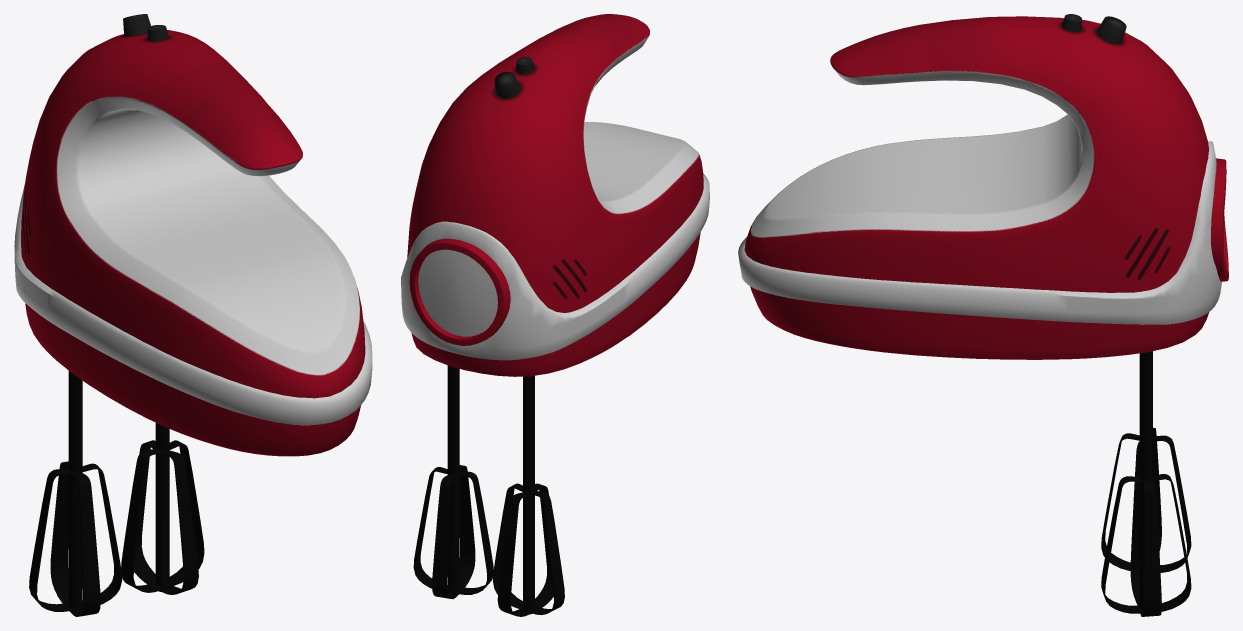
File: kitchen7.glb
3 renders of one model, left to right at view 1: azimuth 30°, elevation 25°; view 2: azimuth 150°, elevation 25°; view 3: azimuth 270°, elevation 25°, orthographic. The views are drawn at different scales.
Visible parts, largest first — view 1: node_id129; view 2: node_id129; view 3: node_id129.
Boxes of the visible parts, left/top/right/bottom form: node_id129: left=14, top=14, right=372, bottom=616; node_id129: left=401, top=14, right=709, bottom=616; node_id129: left=738, top=14, right=1228, bottom=616.
Size of the model in its own units: 0.2036 by 0.512 by 0.396.
1 material, 1 textured.
